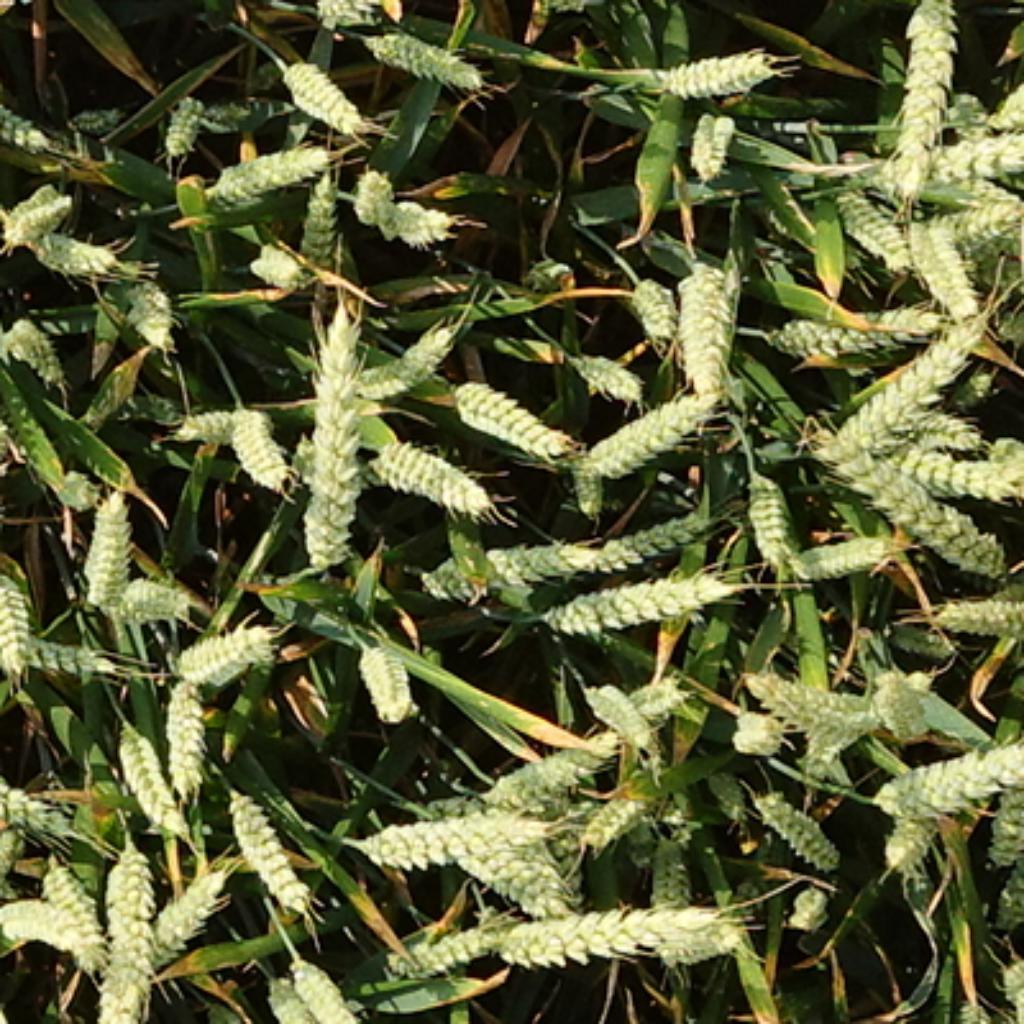0-0: (811, 419, 1011, 583), (291, 286, 373, 570), (453, 890, 750, 967), (826, 322, 985, 450), (422, 793, 581, 919), (889, 0, 966, 209), (355, 793, 570, 865), (535, 560, 732, 632), (885, 736, 1024, 828), (578, 389, 727, 473), (847, 153, 1024, 220), (222, 780, 314, 906), (97, 844, 161, 1024), (670, 245, 739, 409), (445, 363, 568, 453), (757, 660, 888, 744), (901, 209, 988, 330), (762, 296, 931, 358), (578, 504, 721, 576), (374, 434, 497, 516), (0, 622, 140, 693), (744, 775, 847, 870), (112, 719, 192, 837), (381, 906, 517, 975), (486, 724, 606, 801), (355, 312, 458, 396), (360, 26, 483, 95), (899, 441, 1024, 508), (642, 38, 783, 97), (145, 862, 227, 962), (893, 130, 1021, 194), (215, 137, 338, 201), (167, 621, 275, 690), (38, 860, 107, 967), (468, 527, 599, 583), (76, 483, 138, 601), (647, 824, 698, 967), (837, 186, 921, 271), (578, 673, 663, 757), (0, 767, 75, 861), (204, 396, 286, 481), (283, 58, 370, 137), (174, 391, 276, 458), (737, 460, 803, 560), (158, 673, 215, 785), (0, 545, 48, 668), (371, 189, 463, 253), (356, 640, 423, 727), (31, 220, 131, 278), (801, 719, 870, 803), (578, 778, 663, 844), (0, 897, 91, 958), (110, 275, 182, 352), (867, 655, 939, 729), (878, 793, 952, 865), (936, 184, 1013, 253), (793, 524, 893, 576), (289, 952, 360, 1024), (102, 560, 186, 619), (289, 427, 366, 491), (417, 537, 496, 599), (156, 81, 225, 151), (0, 304, 66, 376), (0, 84, 64, 158), (0, 188, 74, 252), (619, 668, 696, 729), (934, 581, 1021, 634), (565, 348, 647, 404), (980, 778, 1024, 880), (296, 171, 335, 276), (683, 102, 739, 174), (345, 158, 404, 225), (893, 401, 980, 445), (56, 460, 122, 517), (624, 268, 678, 335), (972, 81, 1024, 143), (727, 693, 783, 750), (248, 232, 307, 284), (701, 770, 752, 829), (317, 0, 402, 35), (949, 363, 1000, 419), (266, 965, 314, 1024), (890, 624, 967, 660), (527, 253, 583, 302), (570, 450, 609, 519), (783, 881, 832, 930), (66, 94, 125, 133), (996, 861, 1024, 937), (668, 0, 750, 2)
